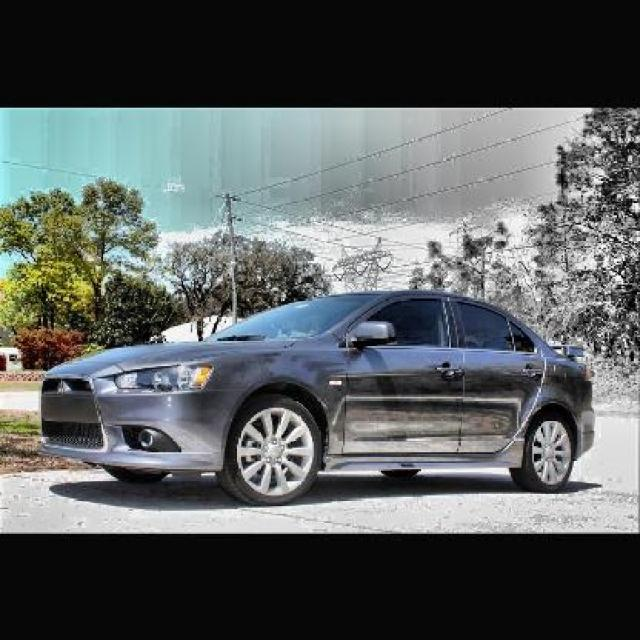black: (39, 288, 596, 500)
